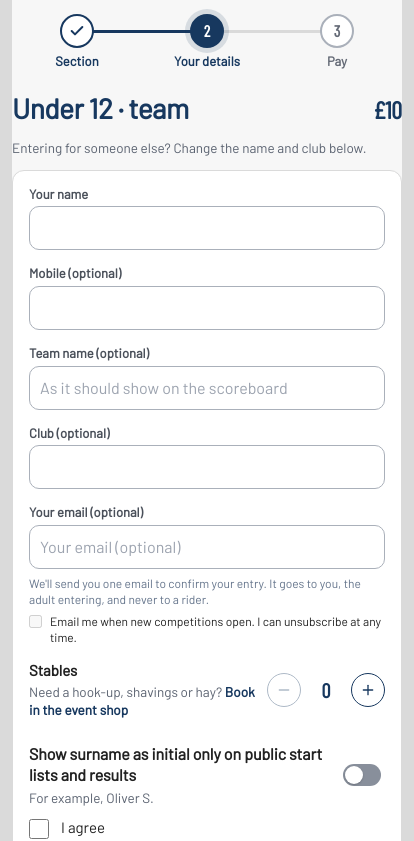
Scenario: whole teams and stables › keeps the stables stepper from going below none
Expected: the button named "One fewer stable" is disabled, [267,673,301,707]
Click the button named "One more stable" at (368, 690), box [351,673,385,707]
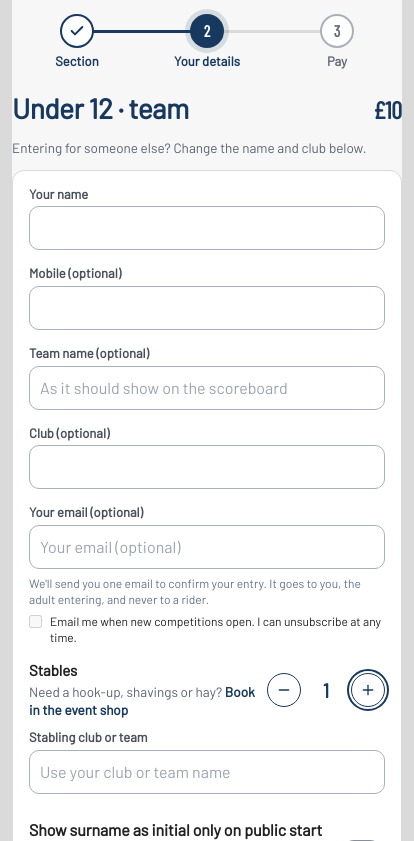
Expected: the field labelled "Stabling club or team" is shown, [29,750,385,794]
Click the button named "One fewer stable" at (284, 690), box [267,673,301,707]
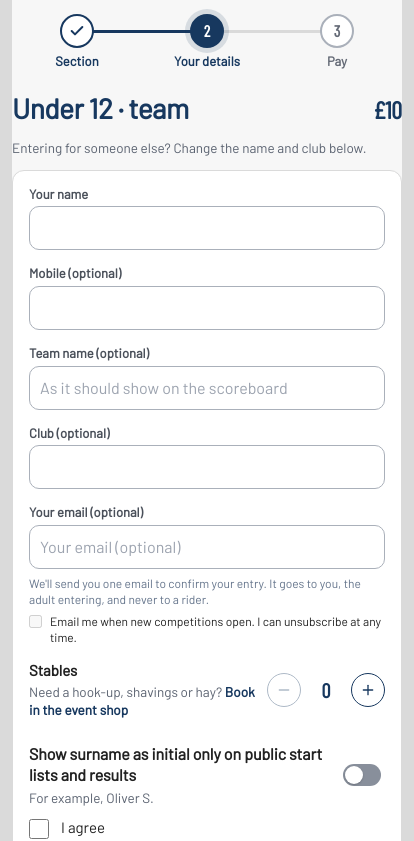
Expected: the label labelled "Stabling club or team" is gone
